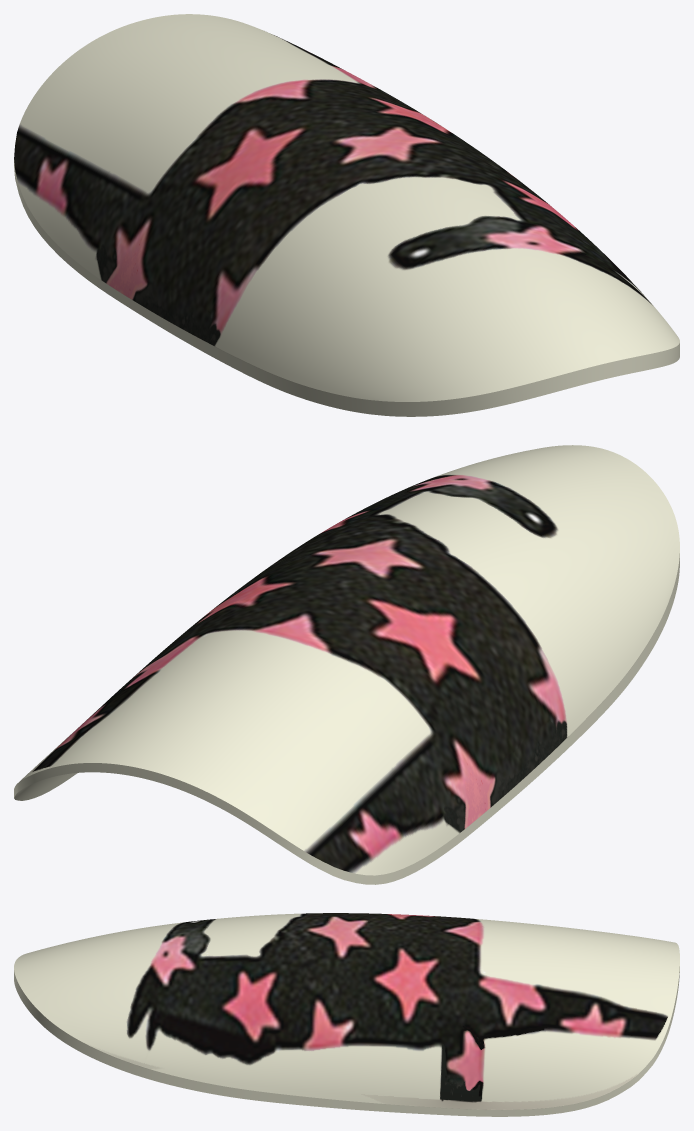
The model's file is MF_Xiao_ma_Zhongzhi_ty03.obj.
3 renders of one model, top to bottom at view 1: azimuth 30°, elevation 25°; view 2: azimuth 150°, elevation 25°; view 3: azimuth 270°, elevation 25°, orthographic. The views are drawn at different scales.
Visible parts, largest first — view 1: MF_Xiao_ma_Zhongzhi_ty03; view 2: MF_Xiao_ma_Zhongzhi_ty03; view 3: MF_Xiao_ma_Zhongzhi_ty03.
Boxes of the visible parts, left/top/right/bottom form: MF_Xiao_ma_Zhongzhi_ty03: left=14, top=14, right=679, bottom=416; MF_Xiao_ma_Zhongzhi_ty03: left=14, top=445, right=679, bottom=884; MF_Xiao_ma_Zhongzhi_ty03: left=14, top=913, right=679, bottom=1116.
Size of the model in its own units: 11.98 by 5.49 by 26.36.
1 material, 1 textured.
